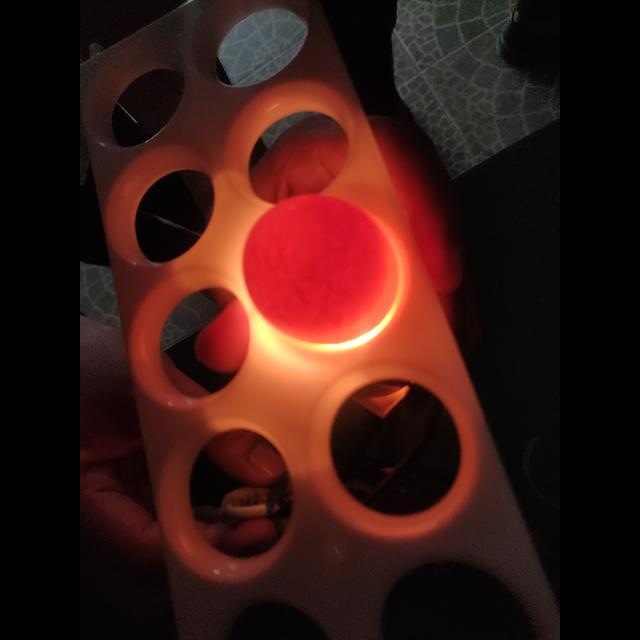A - Good: (238, 190, 404, 346)
